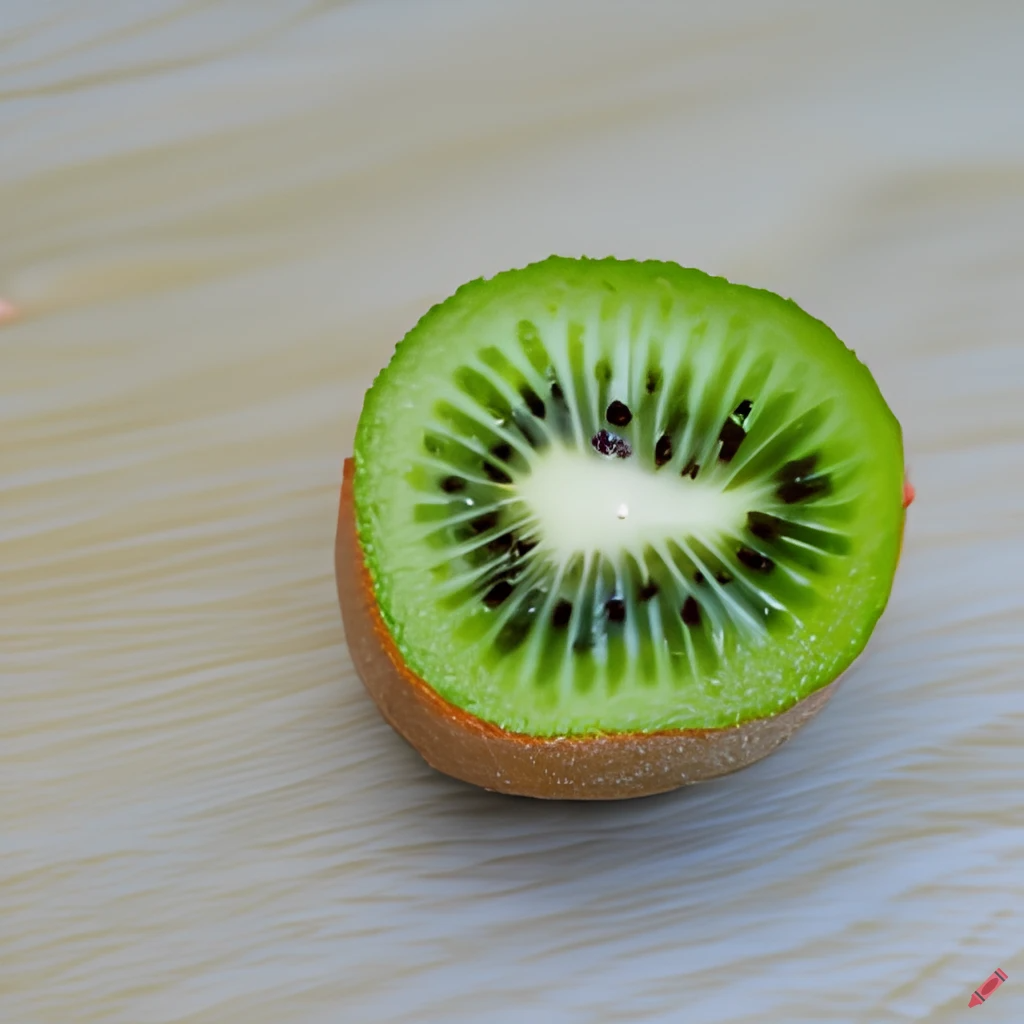Kiwi: (311, 243, 917, 819)
